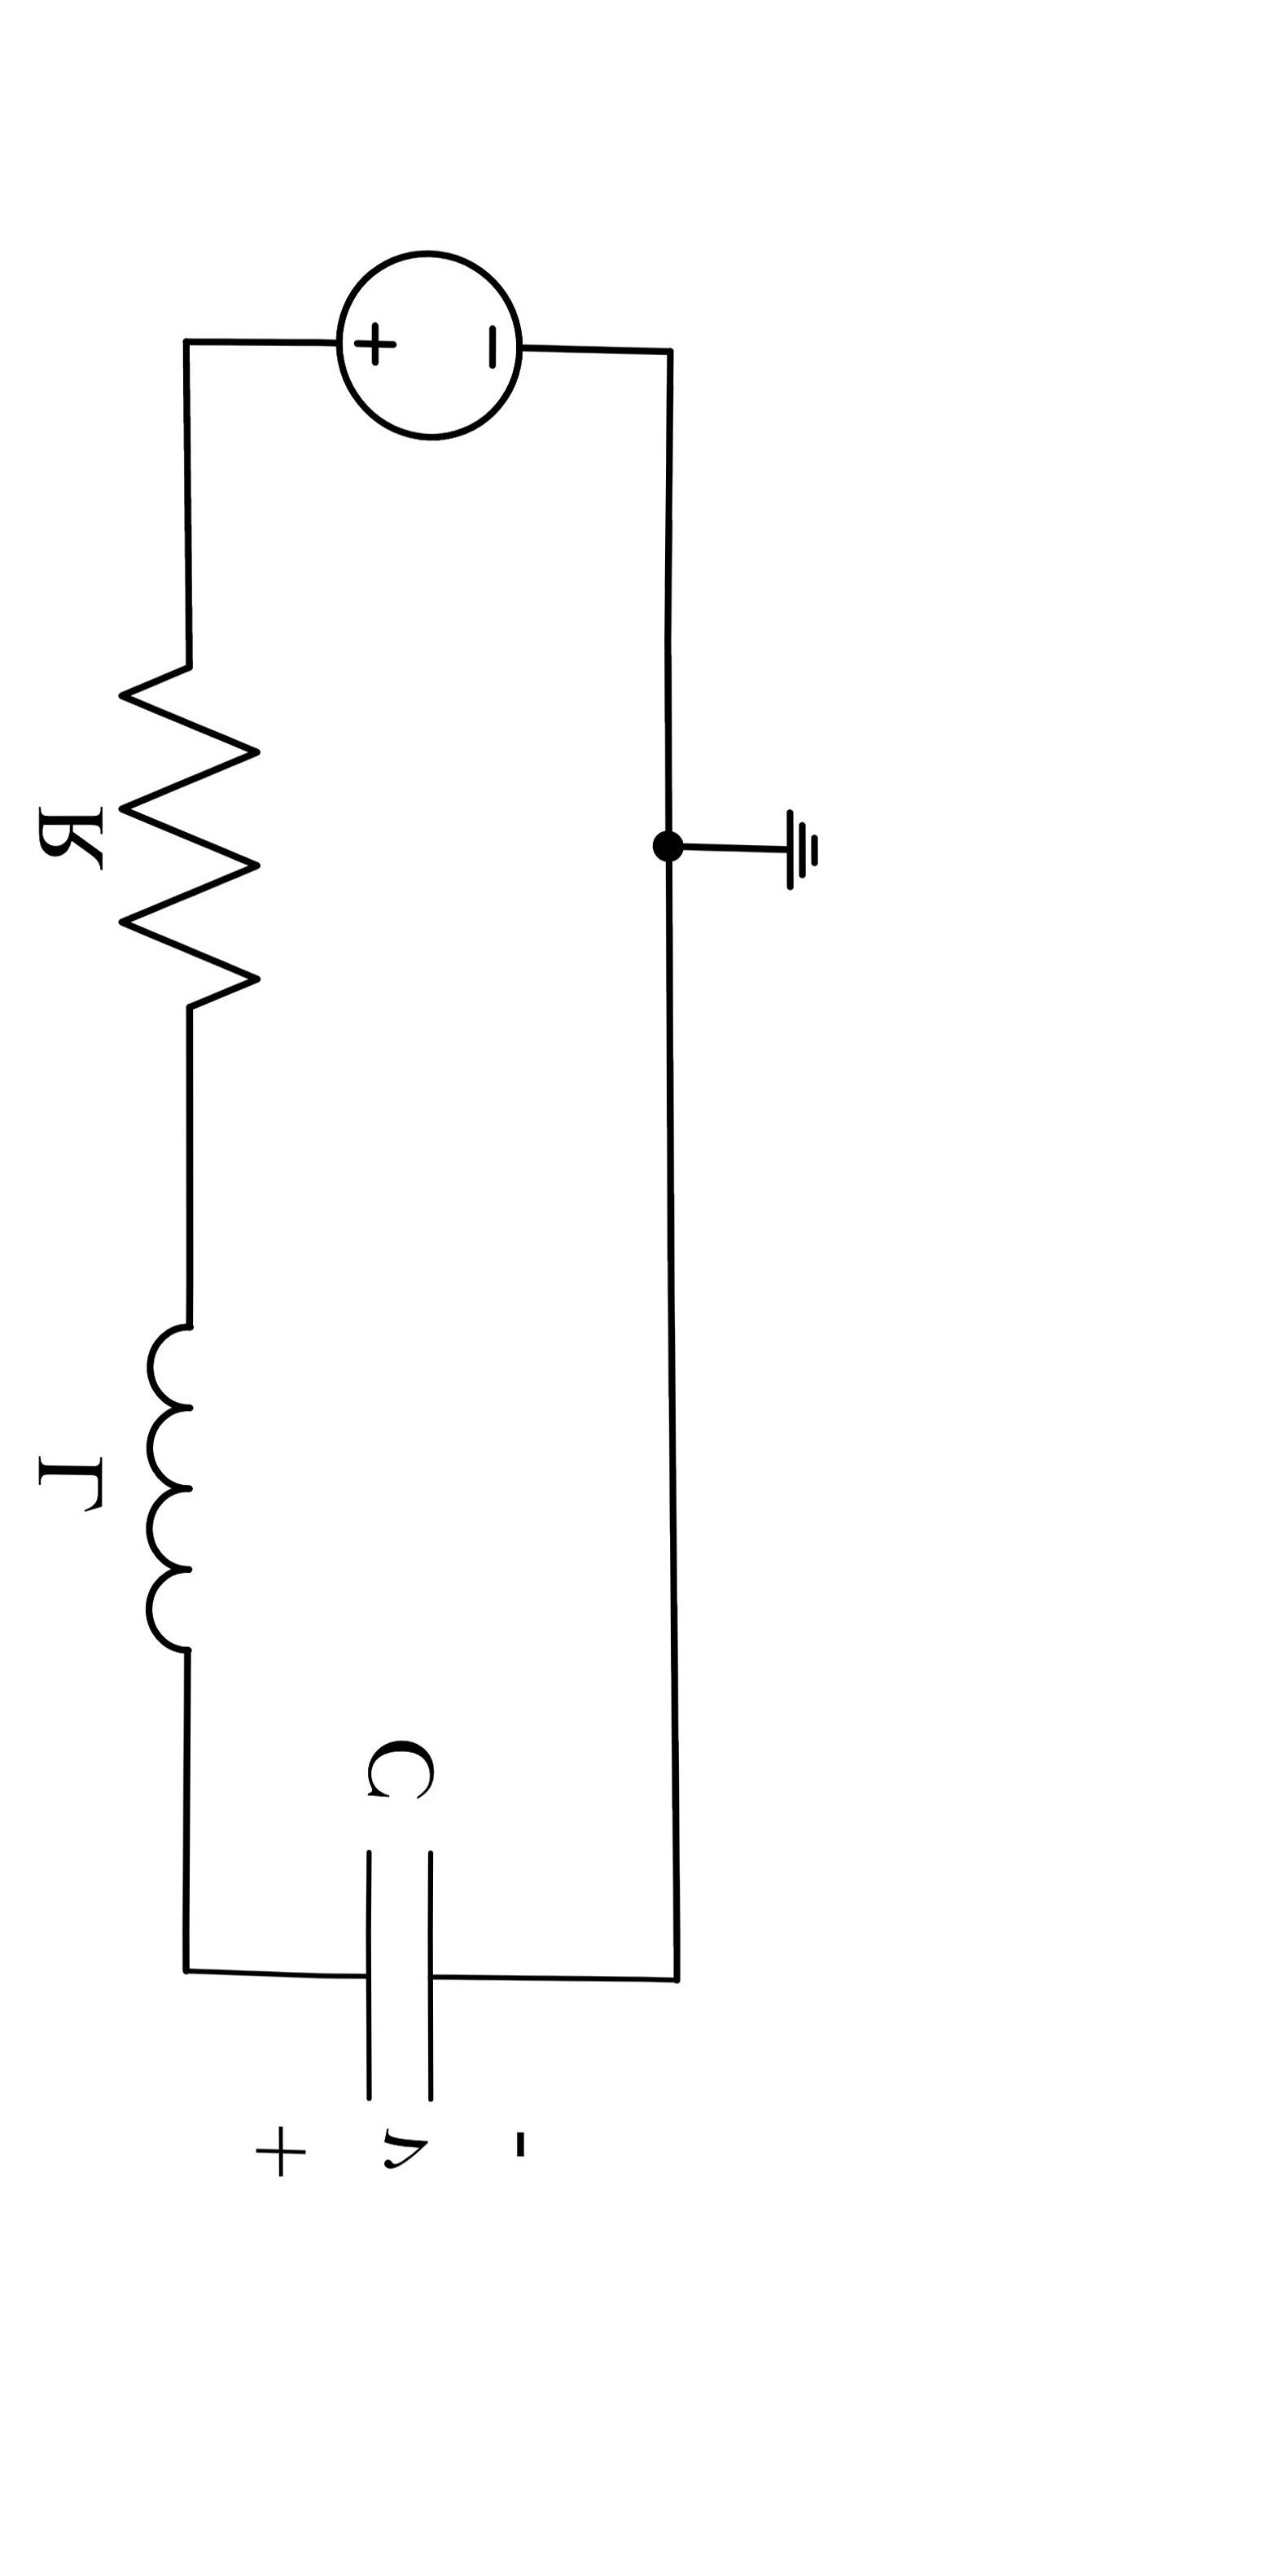Battery: (230, 163, 613, 517)
